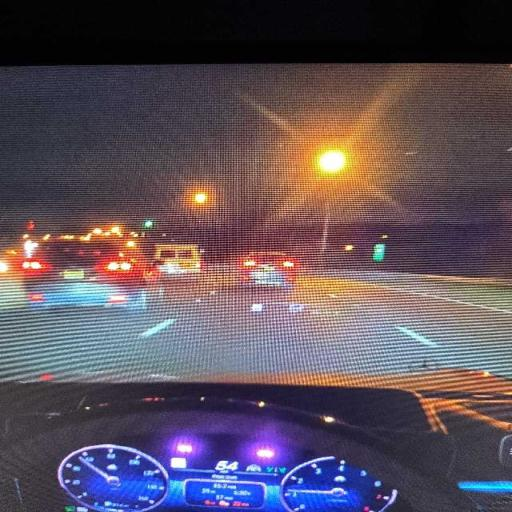car: (21, 241, 148, 310), (239, 251, 296, 287), (0, 250, 26, 312), (154, 244, 203, 276)
lane: (0, 271, 511, 380)
